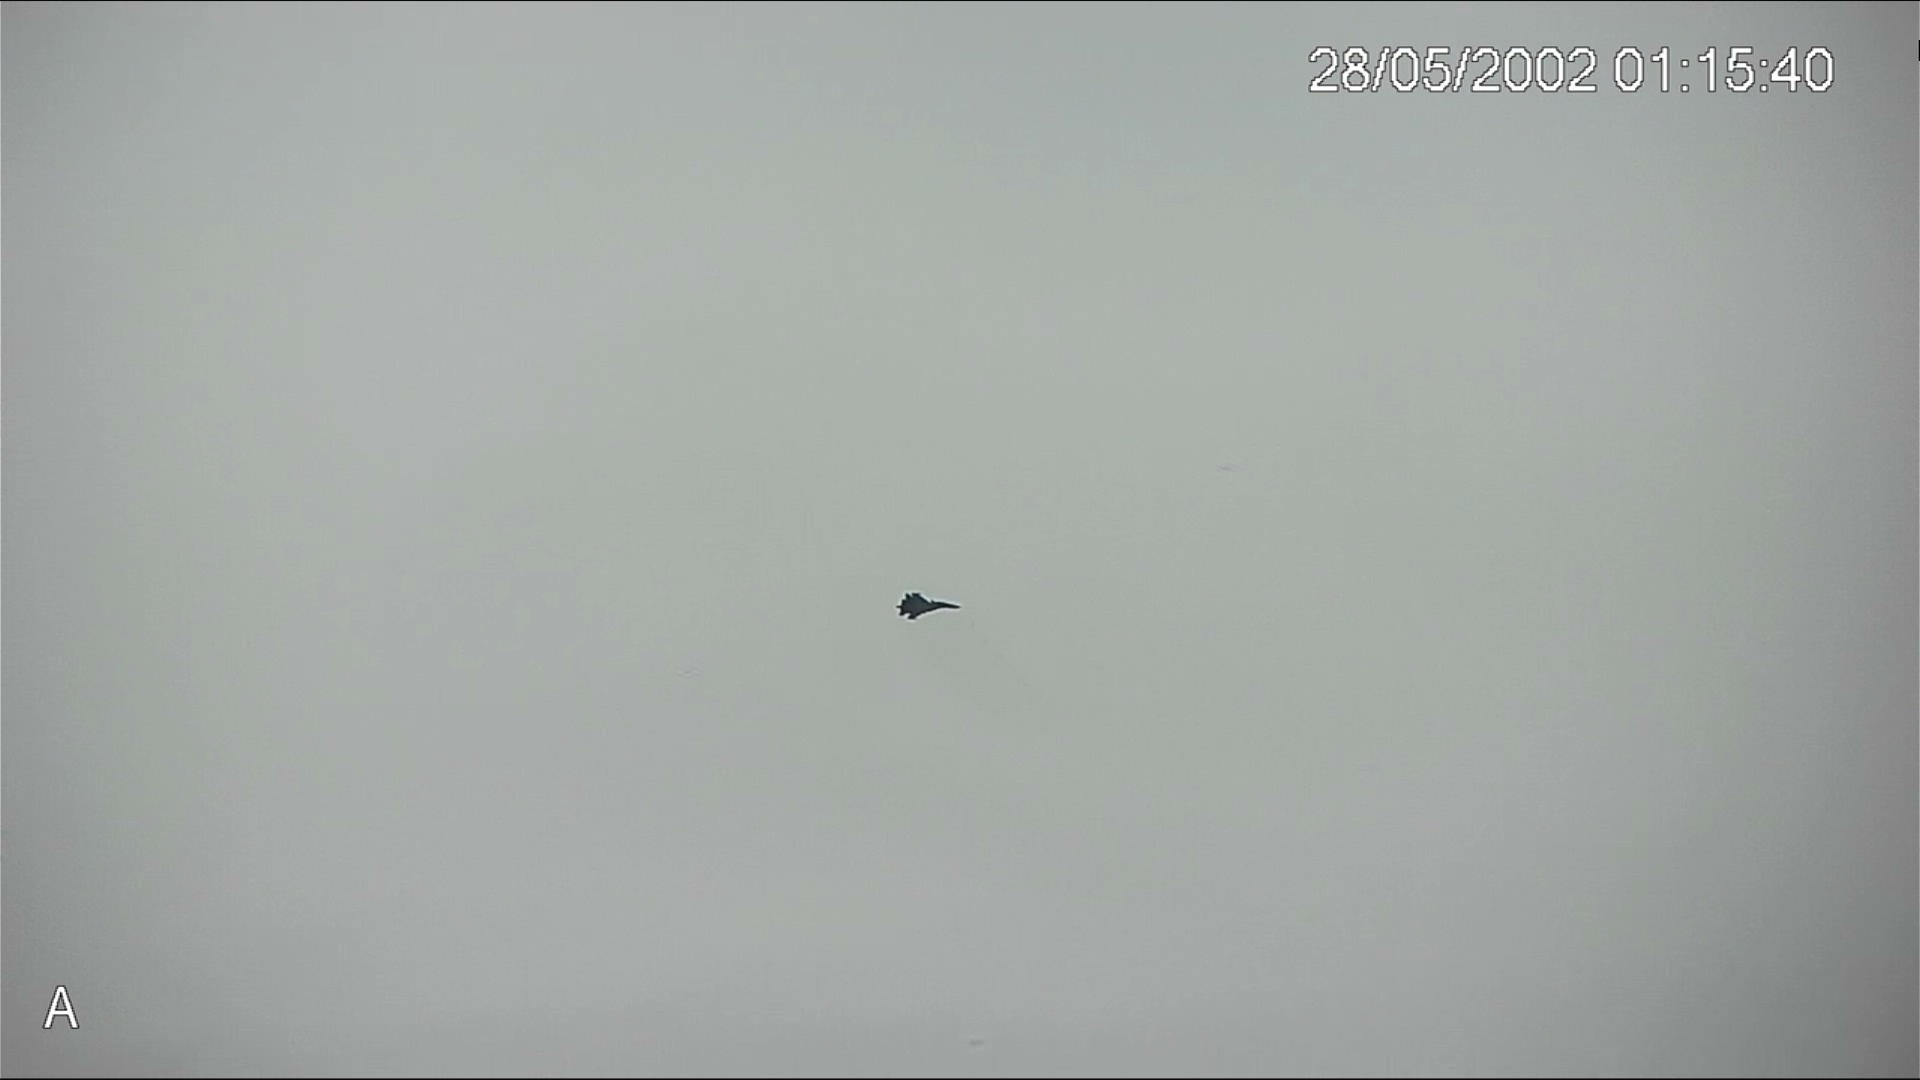SU_30: (895, 589, 963, 622)
